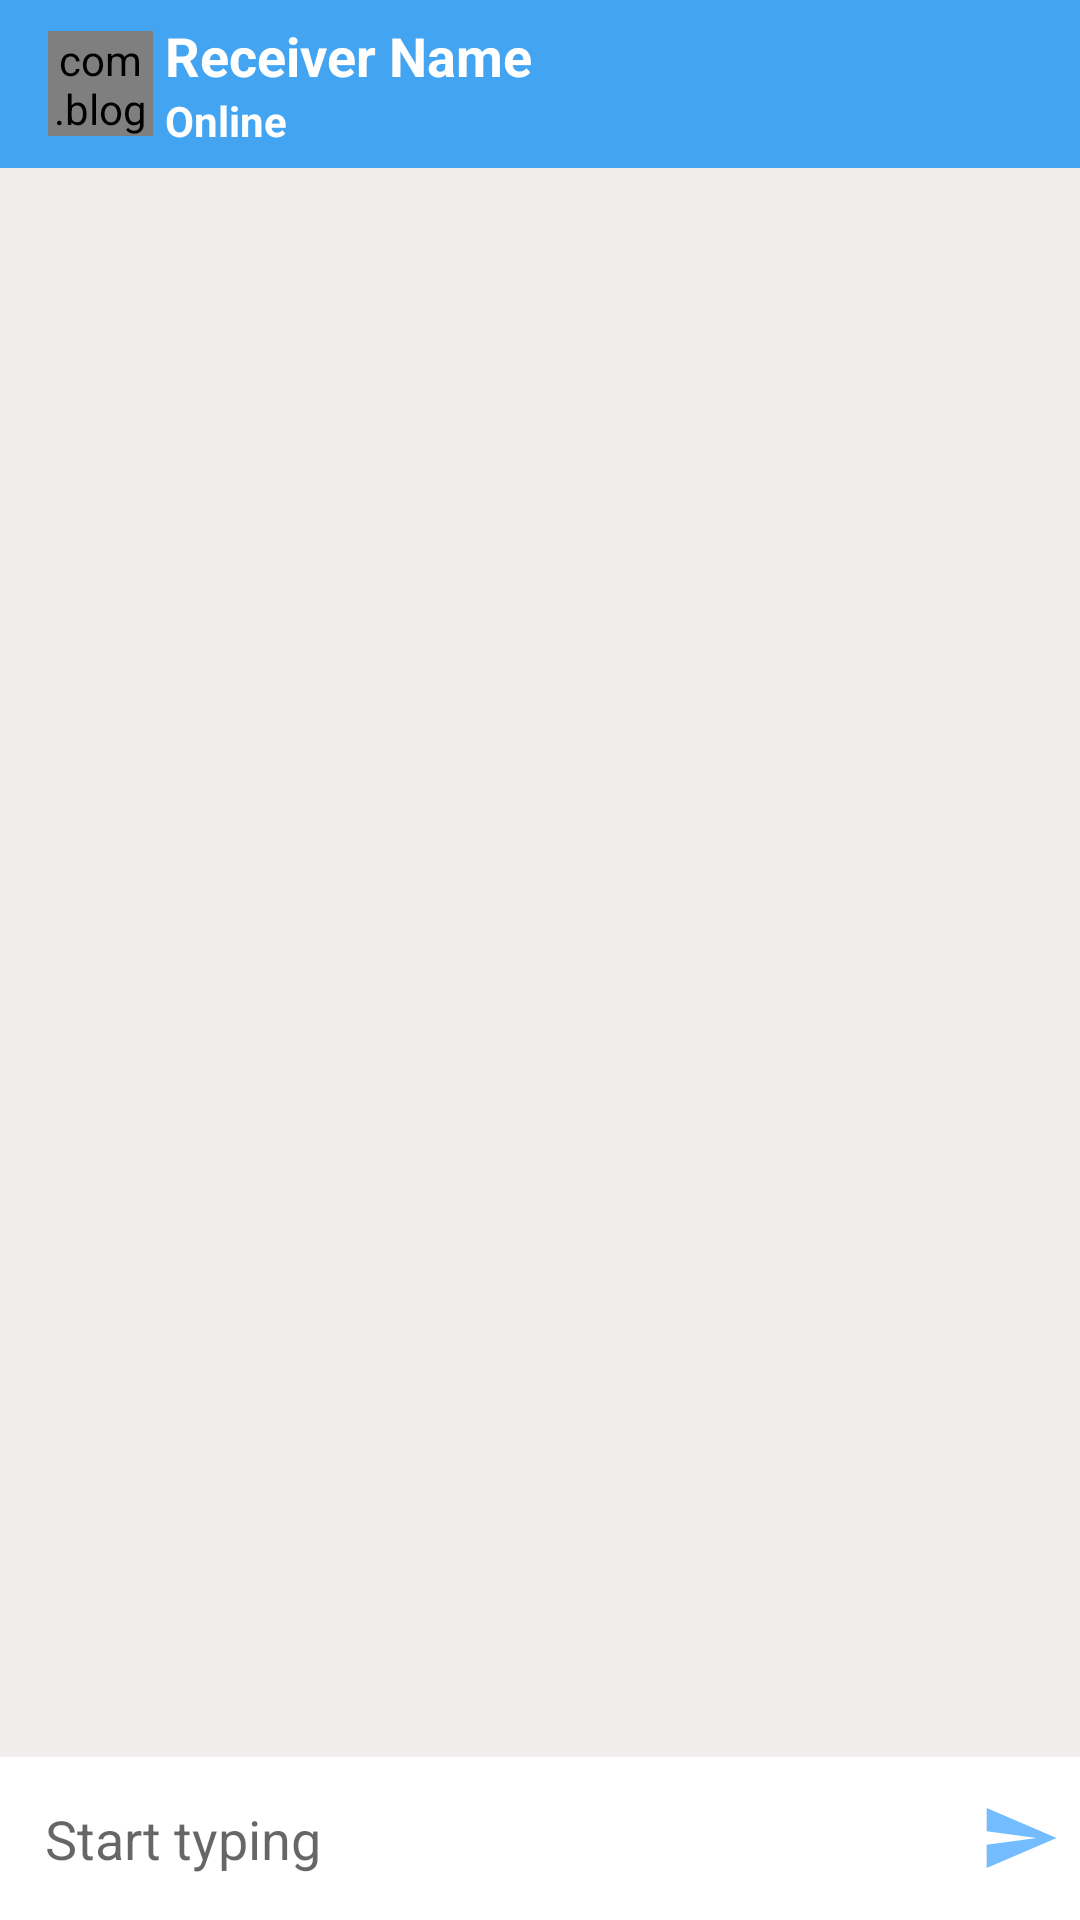

Named icons in this screenshot (1080px x 1920px) and their centers, point (x, y):
send: point (1021, 1838)
